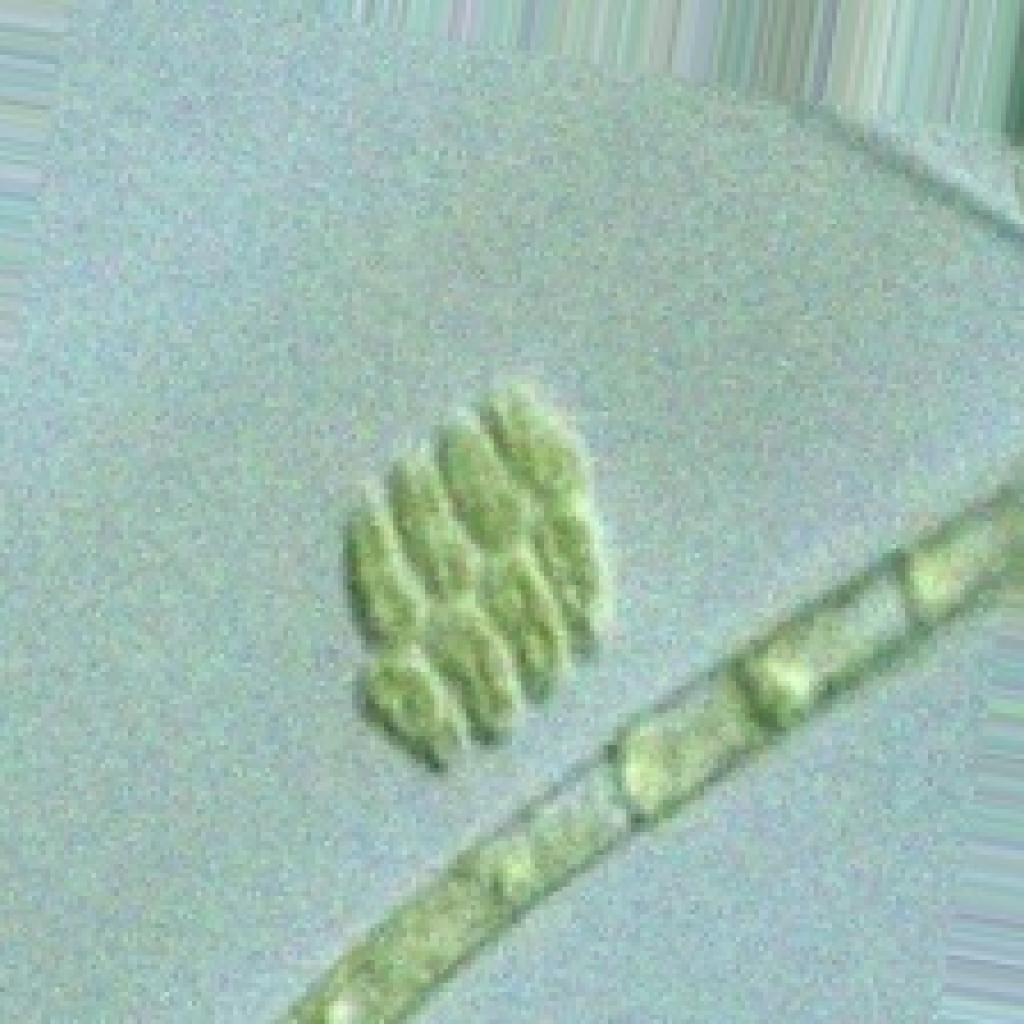Microalgae: (334, 375, 617, 772)
